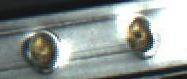joints: (19, 27, 59, 72)
